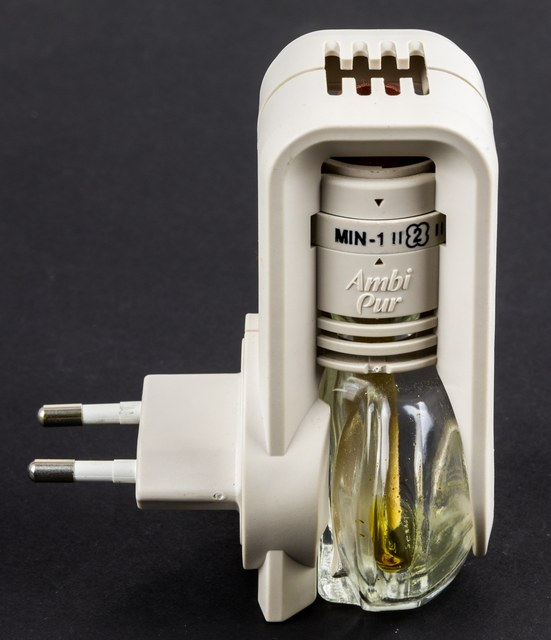Fortune Dishwash Gel: (28, 32, 523, 608)
